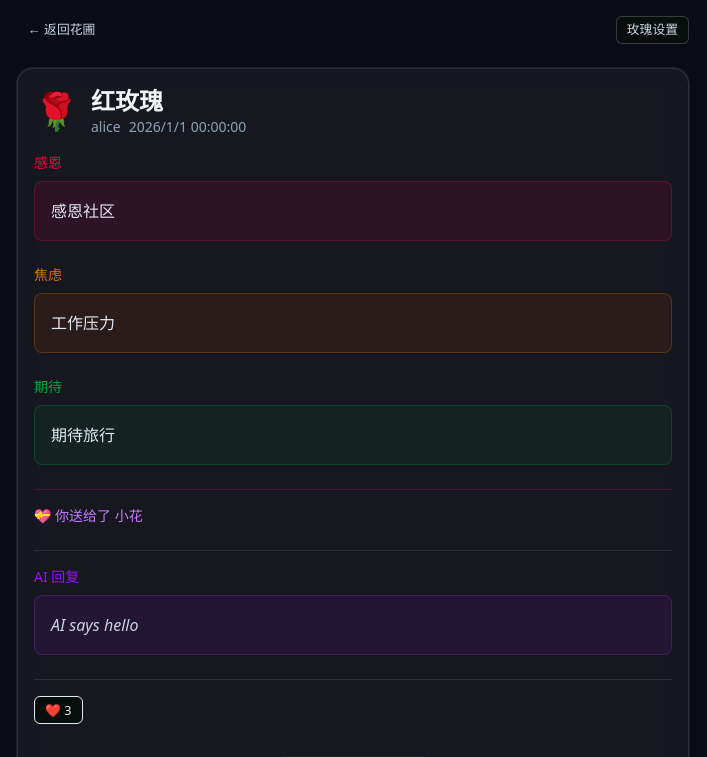
Scenario: RoseDetailPage › should show gift status and hide private toggle for a gift rose
Click the button "玫瑰设置" at (652, 30), box [616,16,689,44]
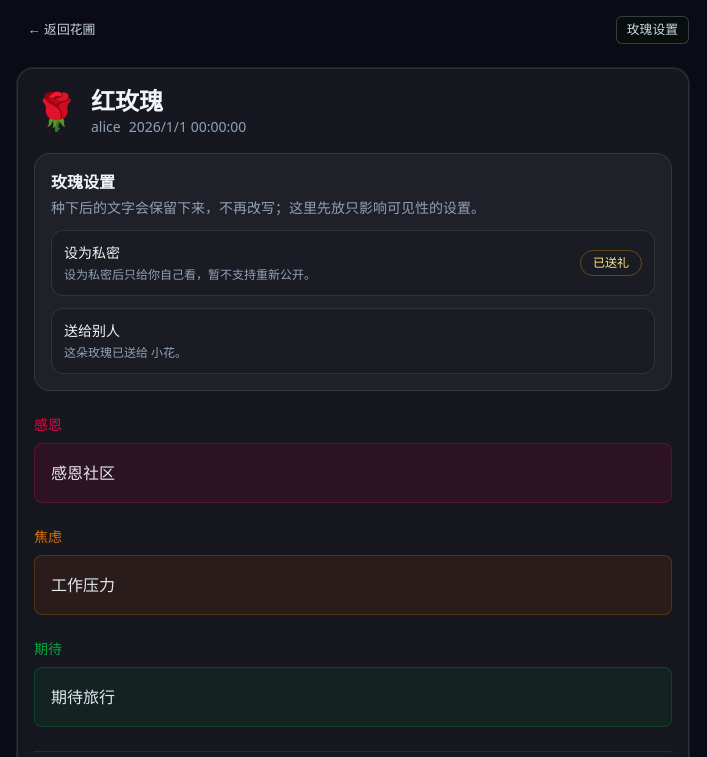
Expected: the text "已送礼" is shown, [580,250,642,276]
Expected: the text "这朵玫瑰已送给 小花。" is shown, [64,344,187,361]
